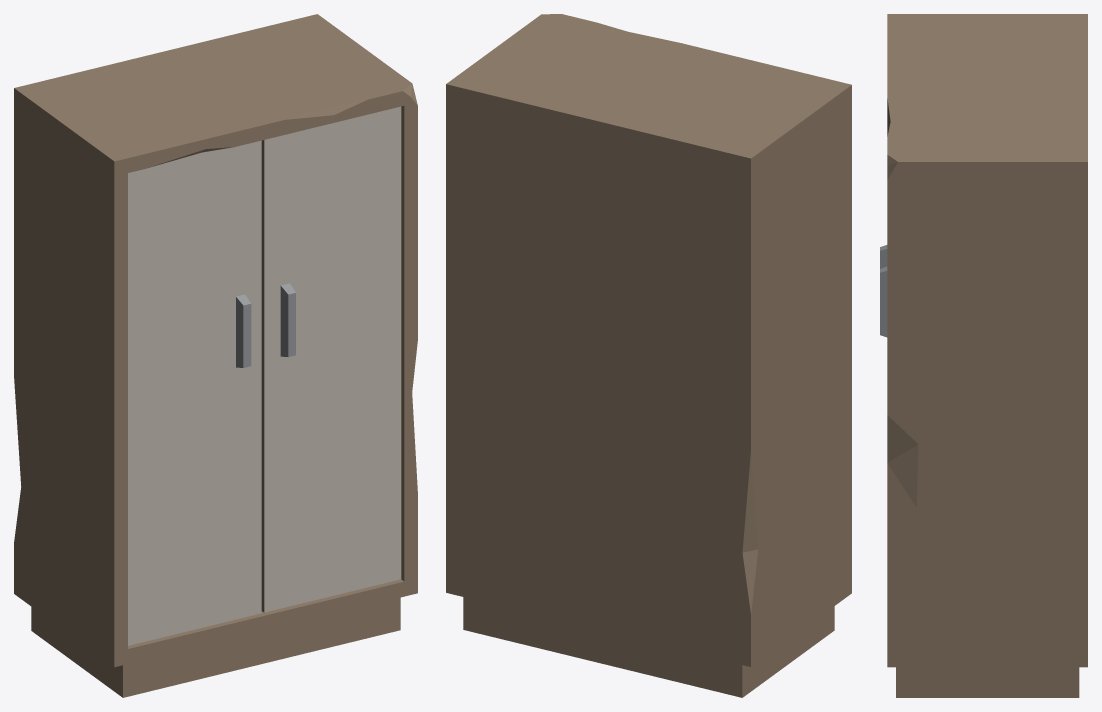
Rendered from SM_Prop_Wardrobe_02_Combined.fbx.
3 views of the same model, side by side, from view 1: azimuth 30°, elevation 25°; view 2: azimuth 150°, elevation 25°; view 3: azimuth 270°, elevation 25° (orthographic).
Visible parts, largest first — view 1: SM_Prop_Wardrobe_02_Combined; view 2: SM_Prop_Wardrobe_02_Combined; view 3: SM_Prop_Wardrobe_02_Combined.
Boxes of the visible parts, bbox=[...] form: SM_Prop_Wardrobe_02_Combined: bbox=[14, 14, 417, 697]; SM_Prop_Wardrobe_02_Combined: bbox=[446, 14, 851, 697]; SM_Prop_Wardrobe_02_Combined: bbox=[880, 14, 1087, 697].
Size of the model in its own units: 120 by 205 by 71.17.
